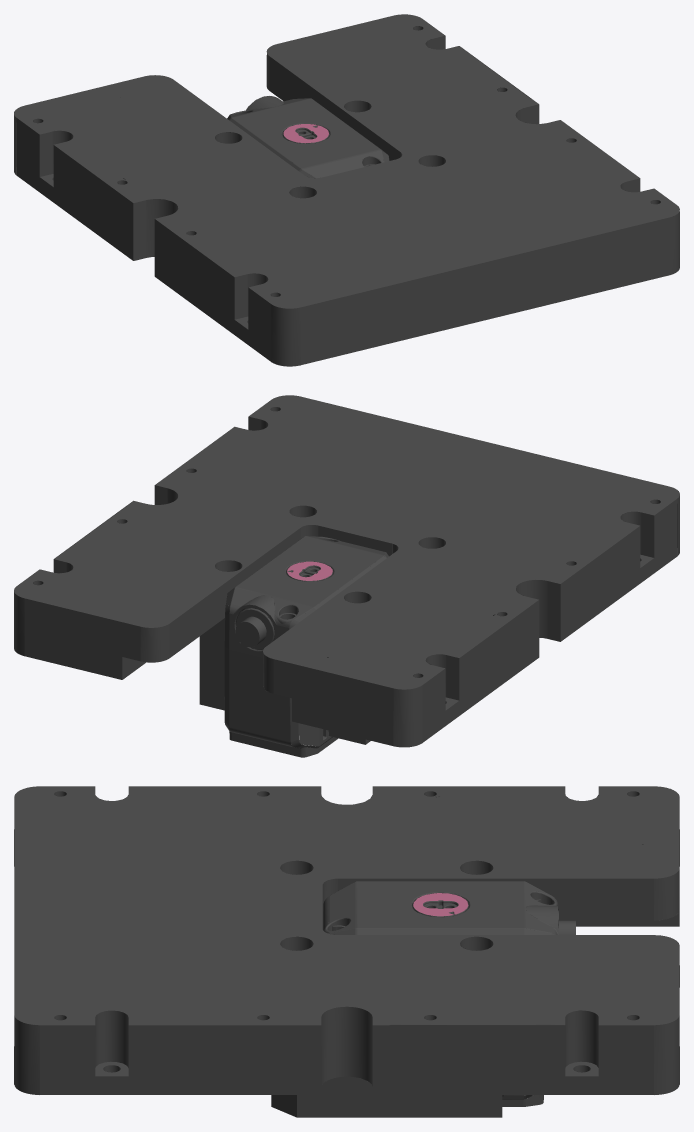
Rendered from qr_reader.dae.
3 renders of one model, top to bottom at view 1: azimuth 30°, elevation 25°; view 2: azimuth 150°, elevation 25°; view 3: azimuth 270°, elevation 25°, orthographic. The views are drawn at different scales.
Visible parts, largest first — view 1: qr_reader; view 2: qr_reader; view 3: qr_reader.
Part boxes in pixels (left/top/right/bottom): qr_reader: left=14, top=14, right=679, bottom=366; qr_reader: left=14, top=395, right=679, bottom=757; qr_reader: left=14, top=786, right=679, bottom=1117.
Bounding box in the file's own units: 0.1101 × 0.1296 × 0.038.
1 material, 1 textured.
